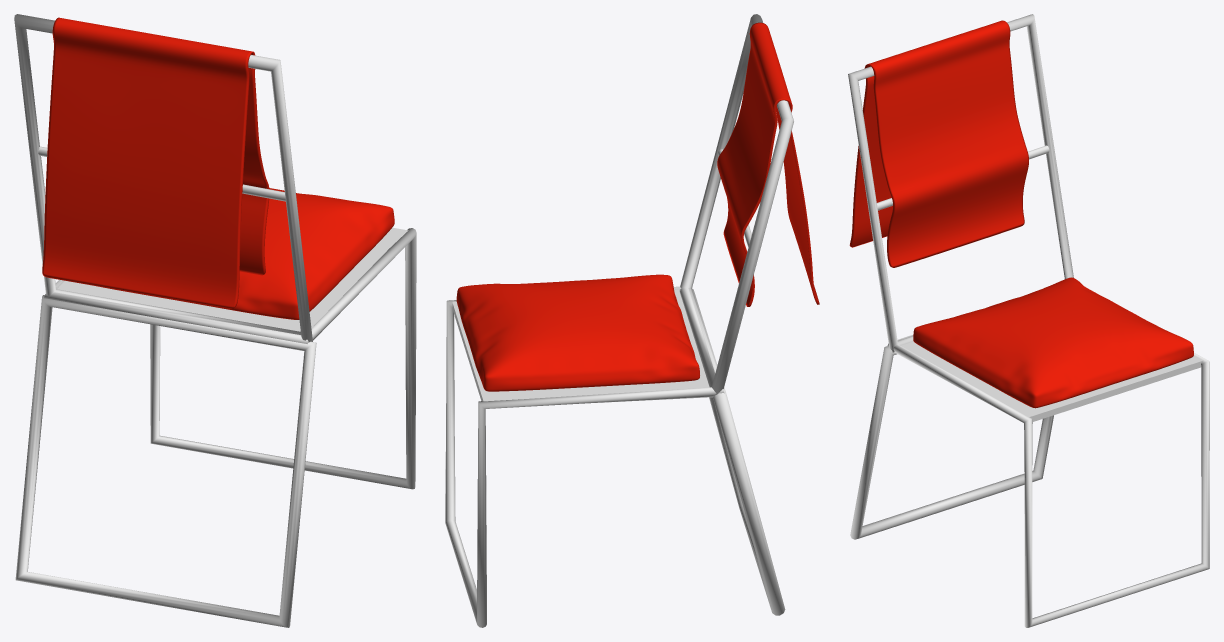
File: chair.fbx
3 renders of one model, left to right at view 1: azimuth 30°, elevation 25°; view 2: azimuth 150°, elevation 25°; view 3: azimuth 270°, elevation 25°, orthographic. The views are drawn at different scales.
Parts seen in each view (by area): view 1: Plane.032, Plane.029, Cube.097, Cube.096, Plane.030, Plane.031; view 2: Cube.097, Plane.032, Plane.030, Cube.096, Plane.029, Plane.031; view 3: Plane.032, Cube.097, Cube.096, Plane.030, Plane.029, Plane.031.
Part boxes in pixels (x1,y1,x2,y2): Plane.032: (42, 17, 269, 308); Plane.029: (15, 295, 316, 627); Cube.097: (101, 188, 394, 319); Cube.096: (44, 228, 416, 489); Plane.030: (14, 14, 312, 342); Plane.031: (57, 227, 408, 331); Cube.097: (456, 274, 699, 391); Plane.032: (717, 22, 819, 306); Plane.030: (680, 14, 793, 396); Cube.096: (445, 286, 724, 627); Plane.029: (692, 288, 785, 615); Plane.031: (452, 289, 709, 401); Plane.032: (849, 20, 1028, 267); Cube.097: (913, 277, 1193, 408); Cube.096: (887, 335, 1209, 627); Plane.030: (848, 14, 1073, 352); Plane.029: (850, 346, 1053, 539); Plane.031: (900, 341, 1203, 421).
Size of the model in its own units: 360 by 492 by 349.
